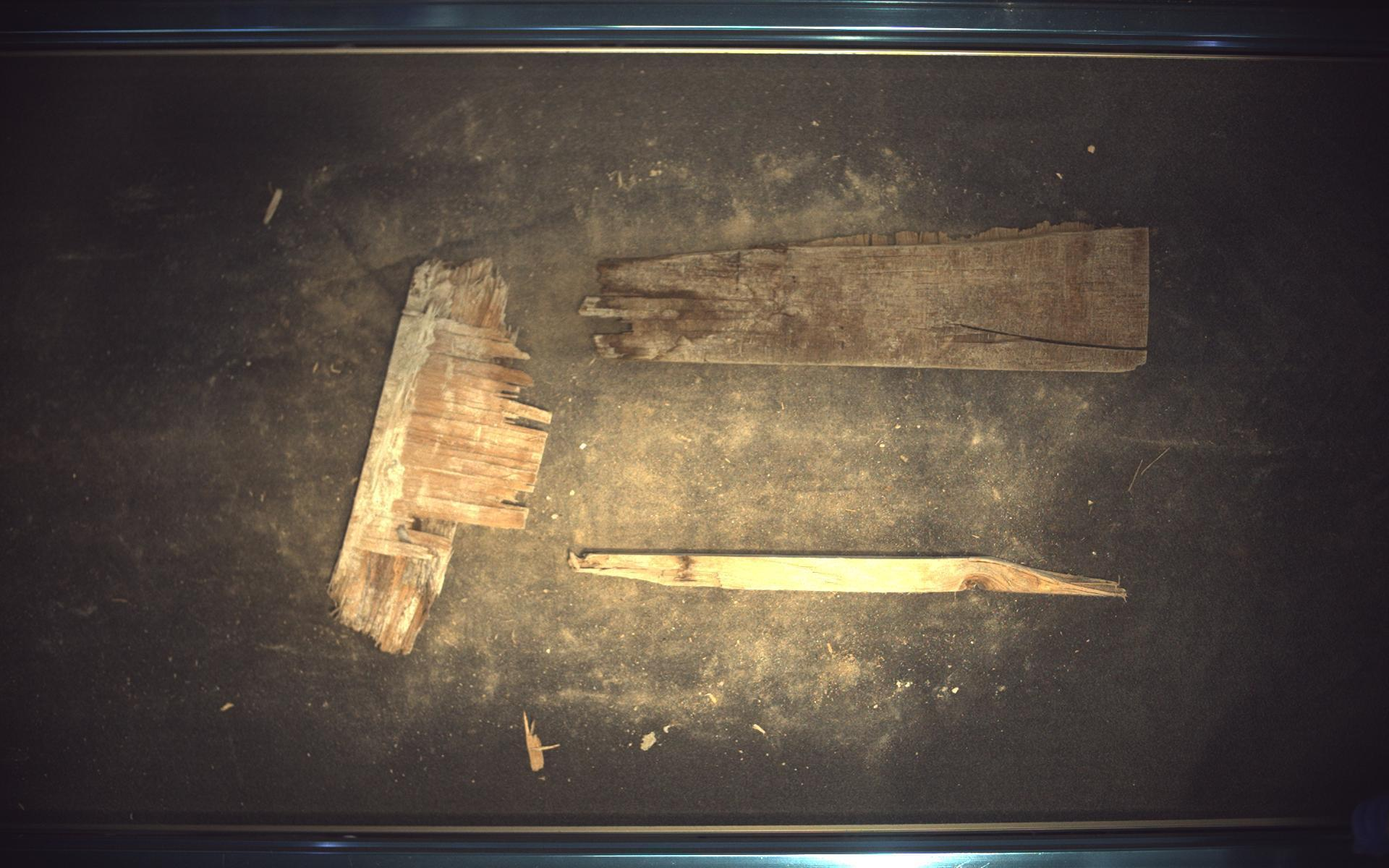wood: (329, 258, 552, 655), (579, 223, 1152, 372), (569, 551, 1129, 598)
